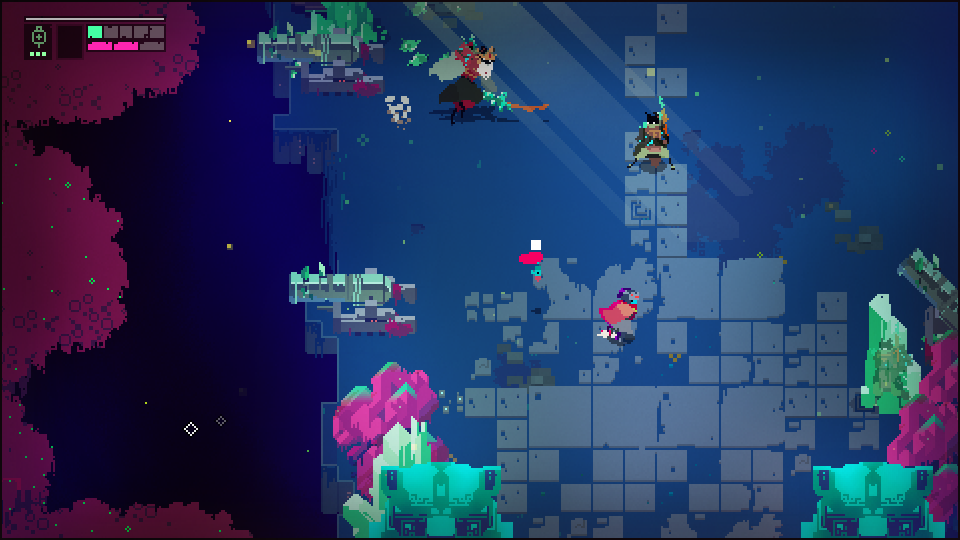hanged_man: (427, 37, 514, 126)
player: (602, 285, 639, 342)
